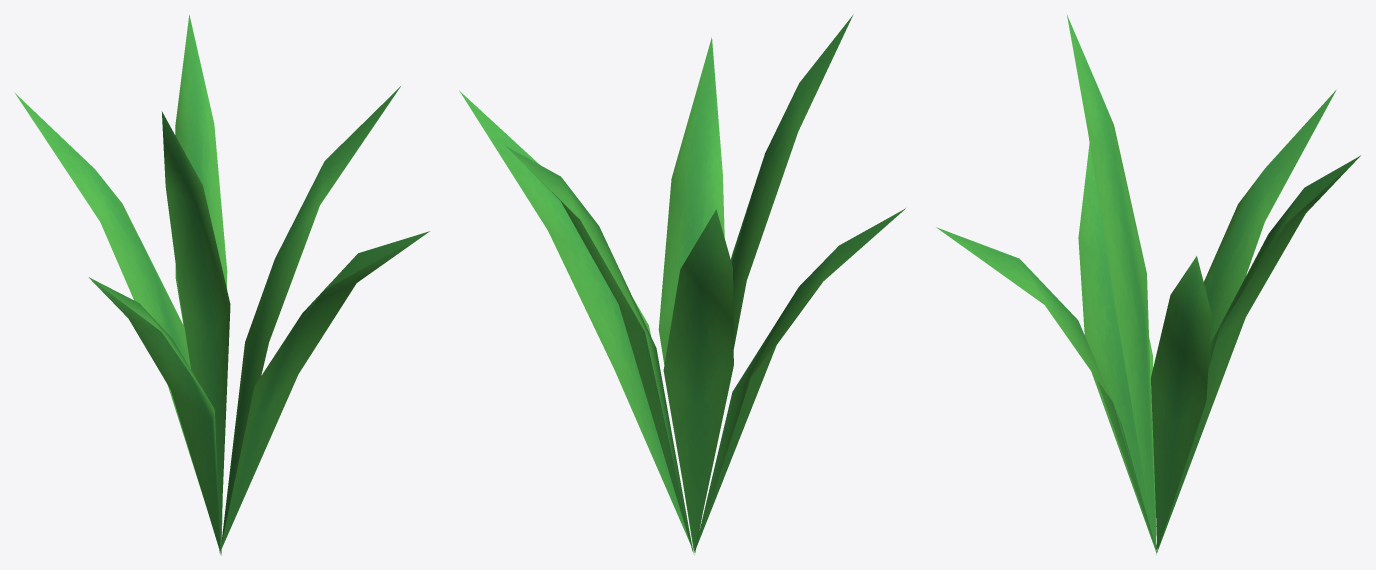
File: Grass_Clump_5.glb
The picture shows the model from 3 angles, left to right: view 1: azimuth 30°, elevation 25°; view 2: azimuth 150°, elevation 25°; view 3: azimuth 270°, elevation 25°; orthographic projection. The views are drawn at different scales.
Visible parts, largest first — view 1: object6.065_object6.058, object6.064_object6.057, object6.067_object6.062, object6.066_object6.061, object6.068_object6.063, object6.072_object6.081; view 2: object6.066_object6.061, object6.067_object6.062, object6.064_object6.057, object6.072_object6.081, object6.065_object6.058, object6.068_object6.063; view 3: object6.065_object6.058, object6.067_object6.062, object6.068_object6.063, object6.066_object6.061, object6.072_object6.081, object6.064_object6.057.
Boxes of the visible parts, x1,y1,x2,y2 form: object6.065_object6.058: (161,111,230,554); object6.064_object6.057: (220,231,429,550); object6.067_object6.062: (221,86,400,546); object6.066_object6.061: (14,92,220,551); object6.068_object6.063: (88,277,220,552); object6.072_object6.081: (175,15,227,555); object6.066_object6.061: (663,209,733,550); object6.067_object6.062: (459,90,692,549); object6.064_object6.057: (658,37,724,552); object6.072_object6.081: (506,146,693,553); object6.065_object6.058: (694,14,853,554); object6.068_object6.063: (694,208,905,552); object6.065_object6.058: (1067,15,1156,553); object6.067_object6.062: (1151,256,1211,549); object6.068_object6.063: (1078,143,1156,552); object6.066_object6.061: (1156,90,1336,549); object6.072_object6.081: (1156,155,1360,554); object6.064_object6.057: (936,227,1156,551).
Bounding box in the file's own units: 0.5074 × 0.6631 × 0.5207.
1 material, 1 textured.
